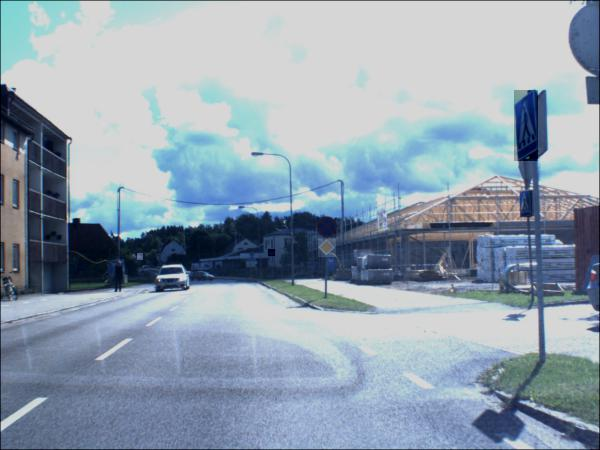NO_STOPPING_NO_STANDING: (318, 218, 339, 241)
PEDESTRIAN_CROSSING: (515, 91, 540, 163), (521, 192, 534, 219), (270, 250, 278, 258), (138, 255, 145, 263)
PRIORITY_ROAD: (319, 239, 338, 259)
